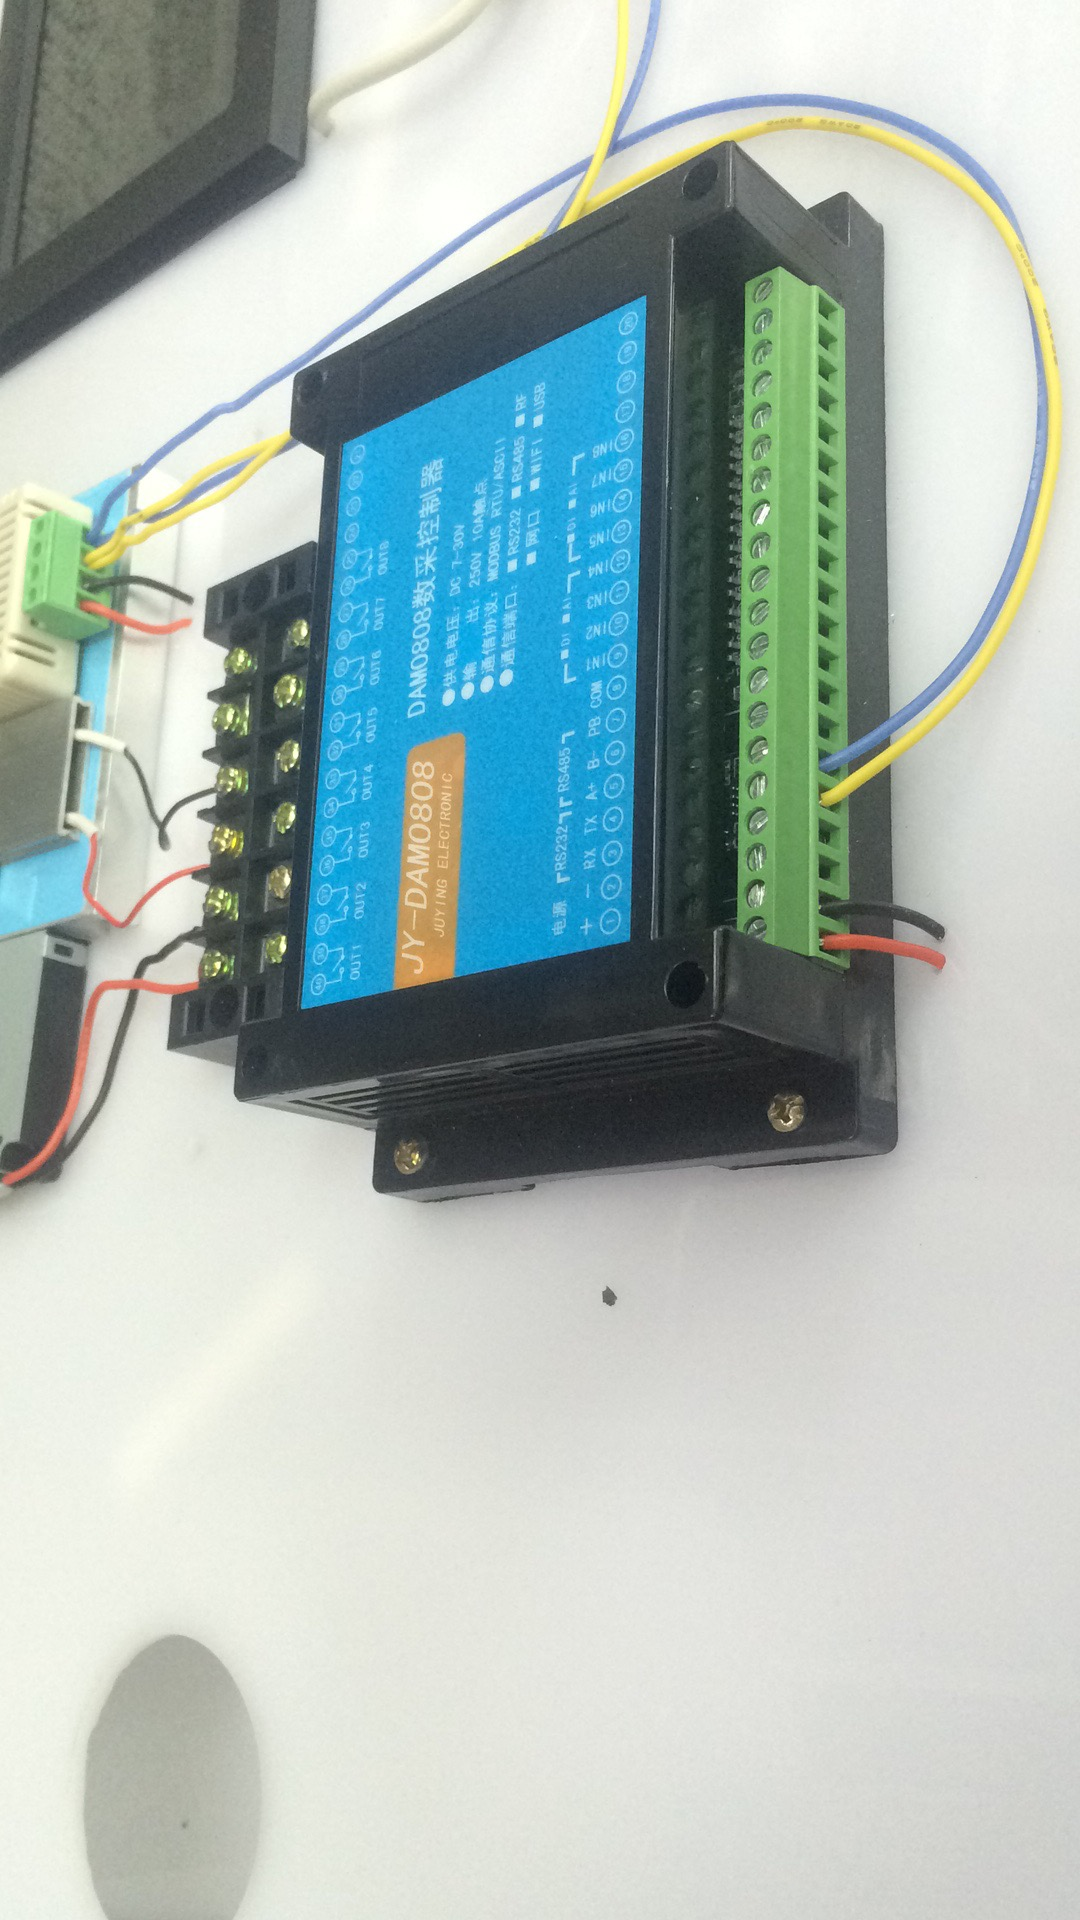relay: (257, 135, 935, 1218)
